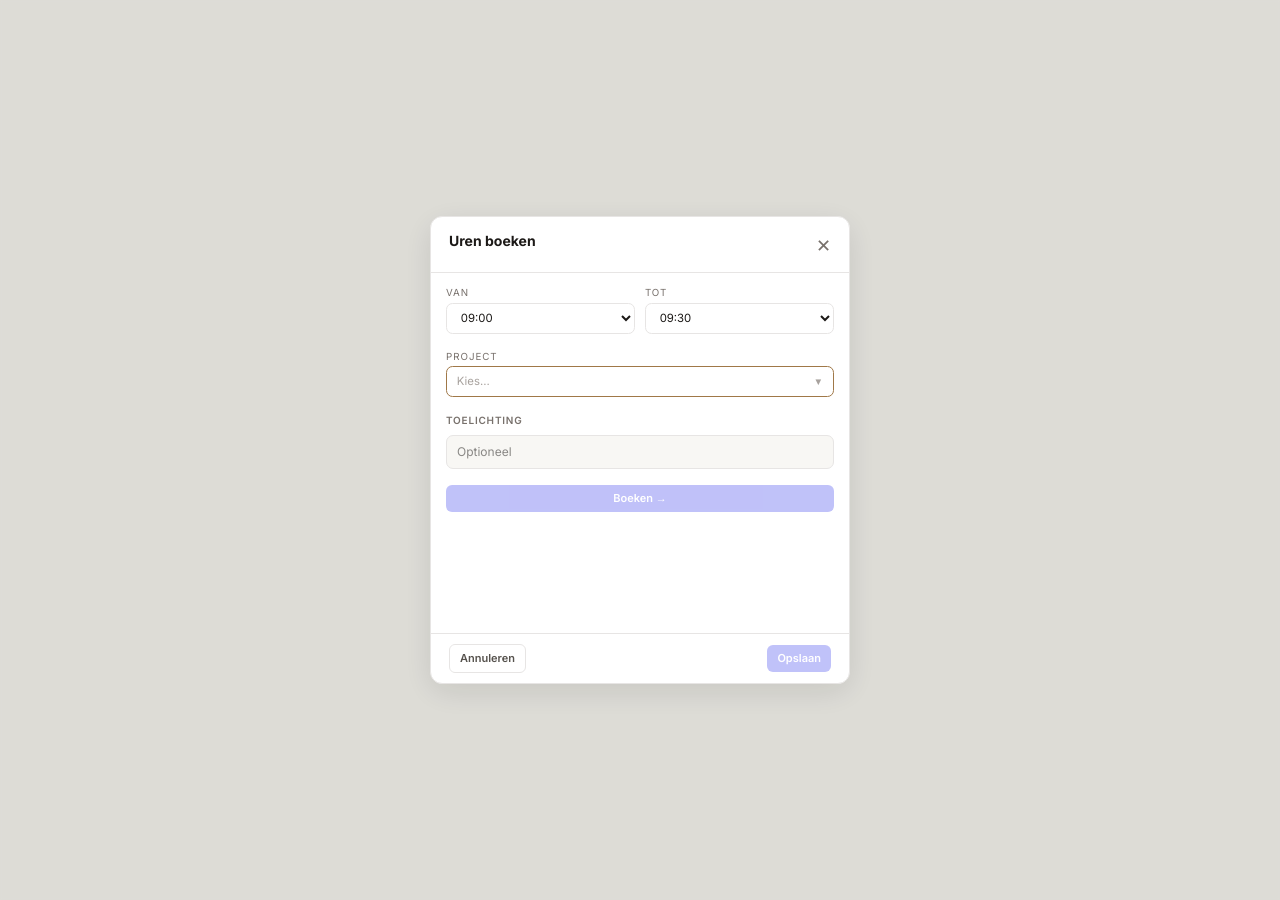
Test: BookingModal › renders filled star for an already-starred project
Click the text "Kies..." at (473, 381), box [457,373,490,390]
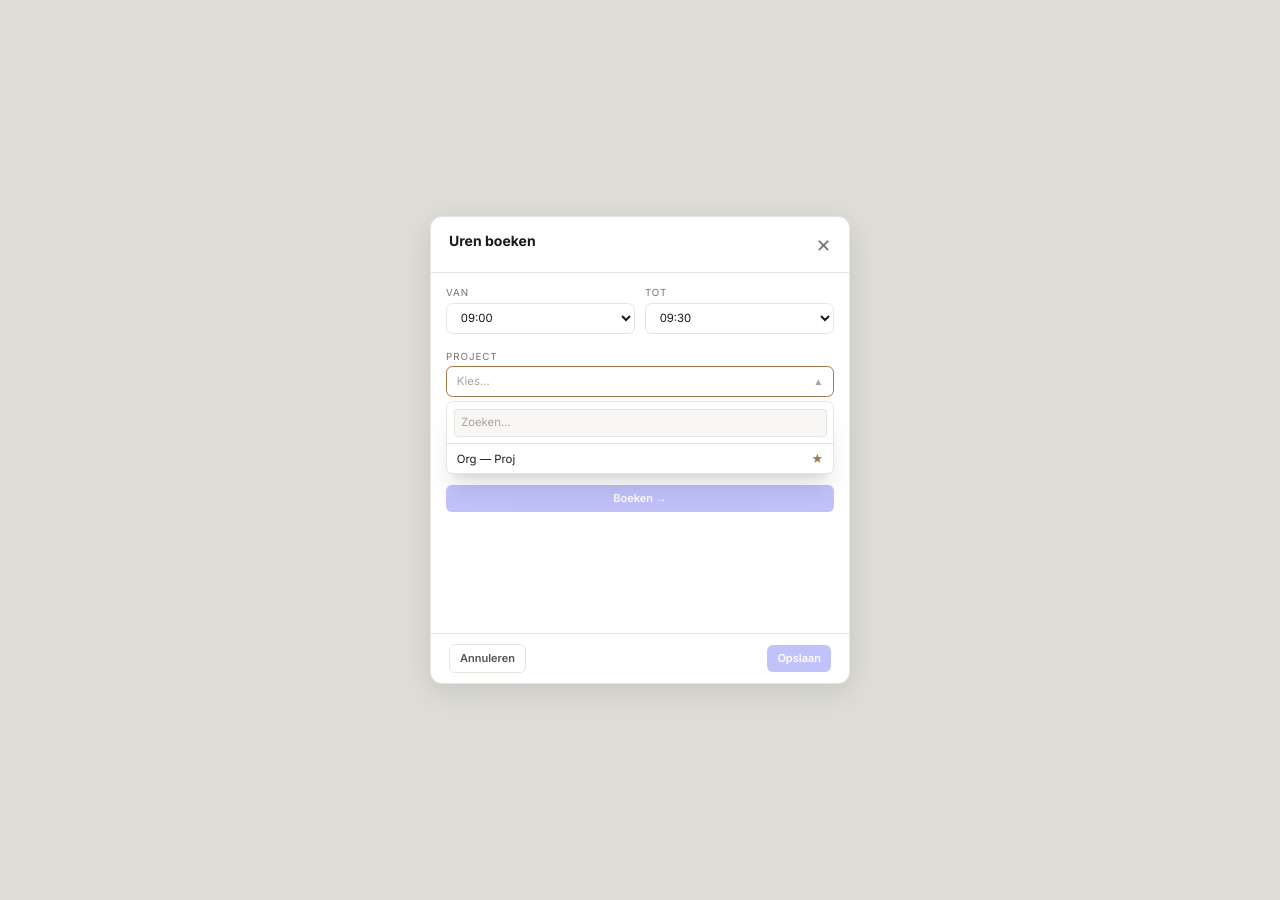
Expected: the button named "Verwijder uit favorieten" reads "★", [808,446,826,472]
